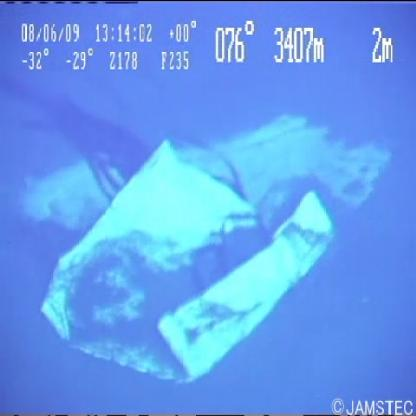Rác: (15, 102, 400, 388)
